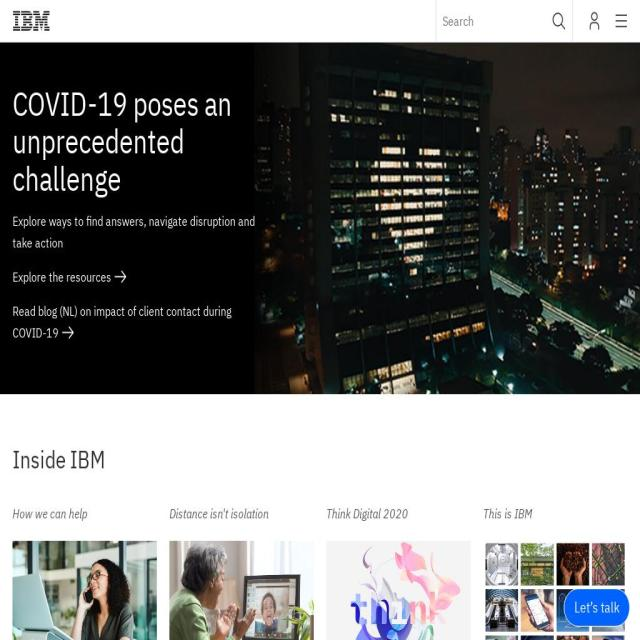button: (12, 502, 157, 640), (169, 502, 314, 640), (326, 502, 471, 640), (483, 502, 628, 640), (564, 588, 630, 627), (12, 0, 50, 42), (546, 0, 572, 42), (616, 0, 628, 42), (589, 0, 600, 42)
field: (436, 0, 573, 42)
heading: (12, 85, 262, 198), (12, 444, 628, 474)
image: (12, 541, 157, 640), (169, 541, 314, 640), (326, 541, 471, 640), (483, 541, 628, 640)
link: (12, 502, 157, 542), (169, 502, 314, 542), (326, 502, 471, 542), (483, 502, 628, 542)
text: (12, 210, 262, 267), (12, 303, 232, 342), (12, 268, 114, 286), (574, 597, 620, 618)
